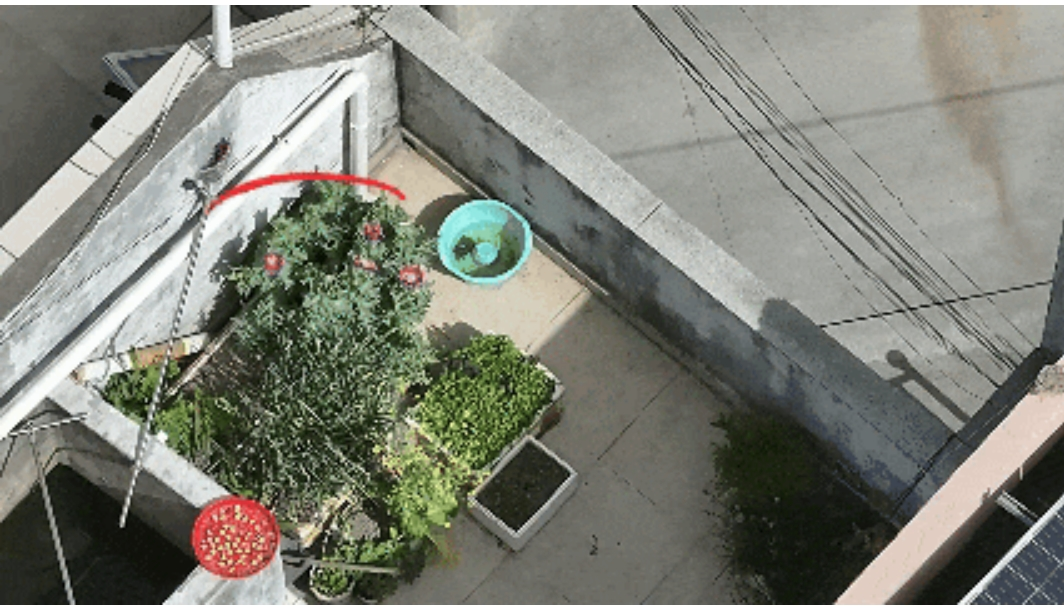Poppy: (224, 183, 439, 364)
